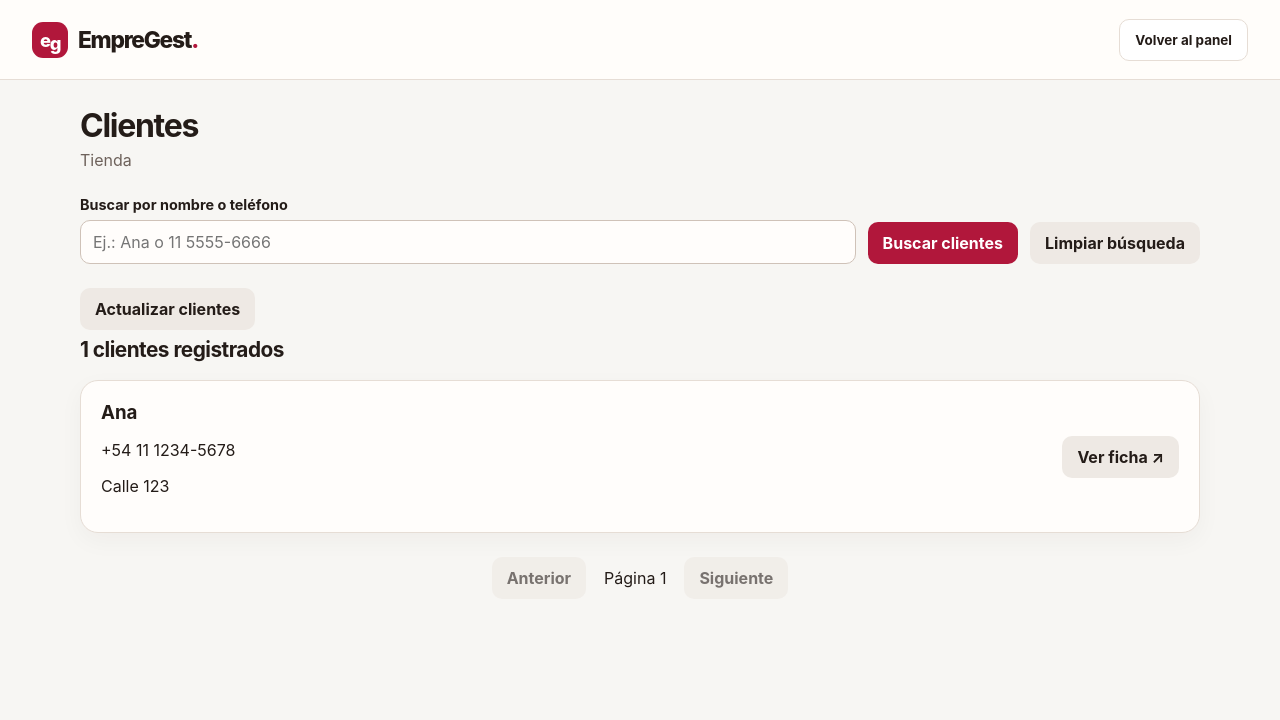
Test: lector consulta sin controles de edición
The width and height of the screenshot is (1280, 720).
What coordinates should you click on to do the following:
click the button with aria-label "Ver ficha de Ana"
I would click on:
 (1121, 457)
Its box is [1062,436,1179,478].
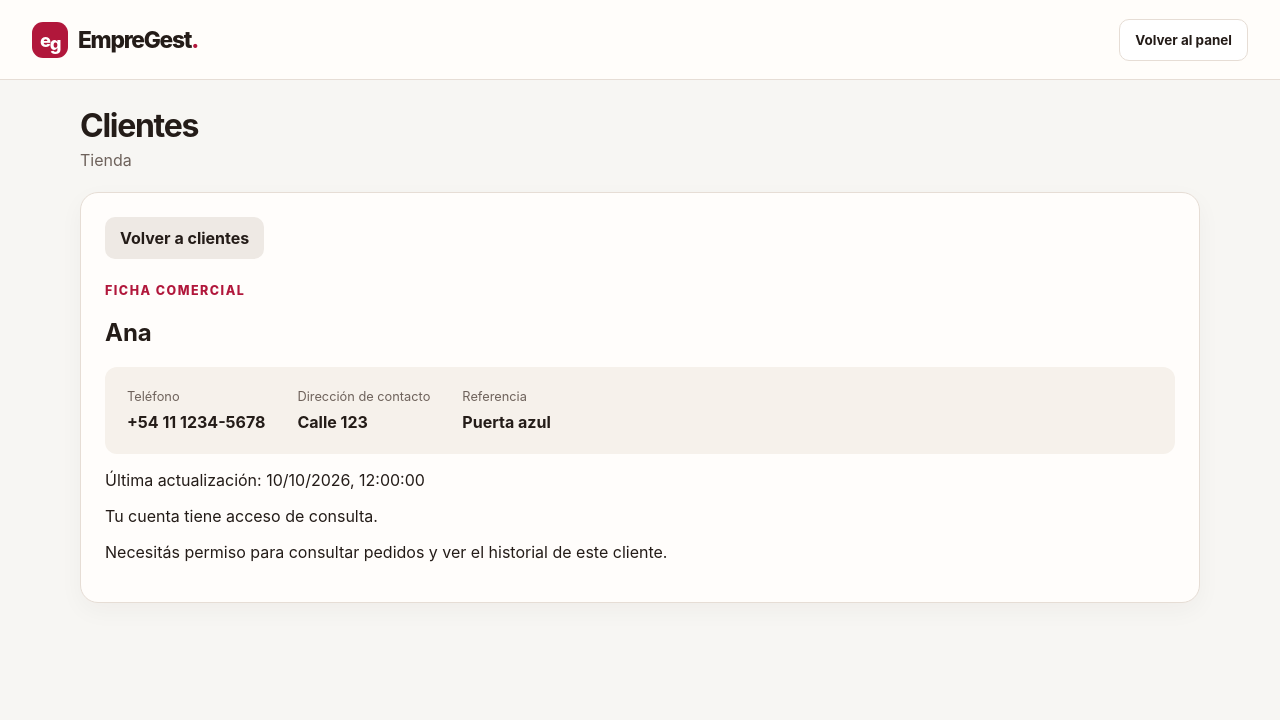
Expected: the text "Tu cuenta tiene acceso de consulta." is shown, [105,506,378,526]
